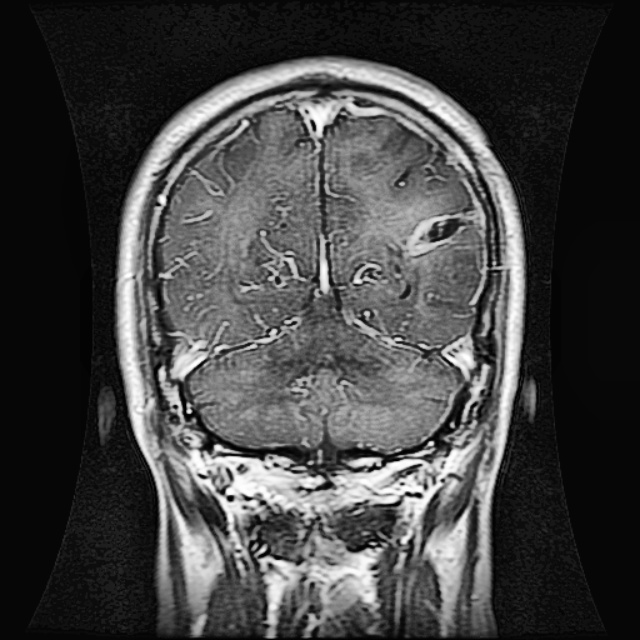Meningioma: (404, 205, 480, 258)
